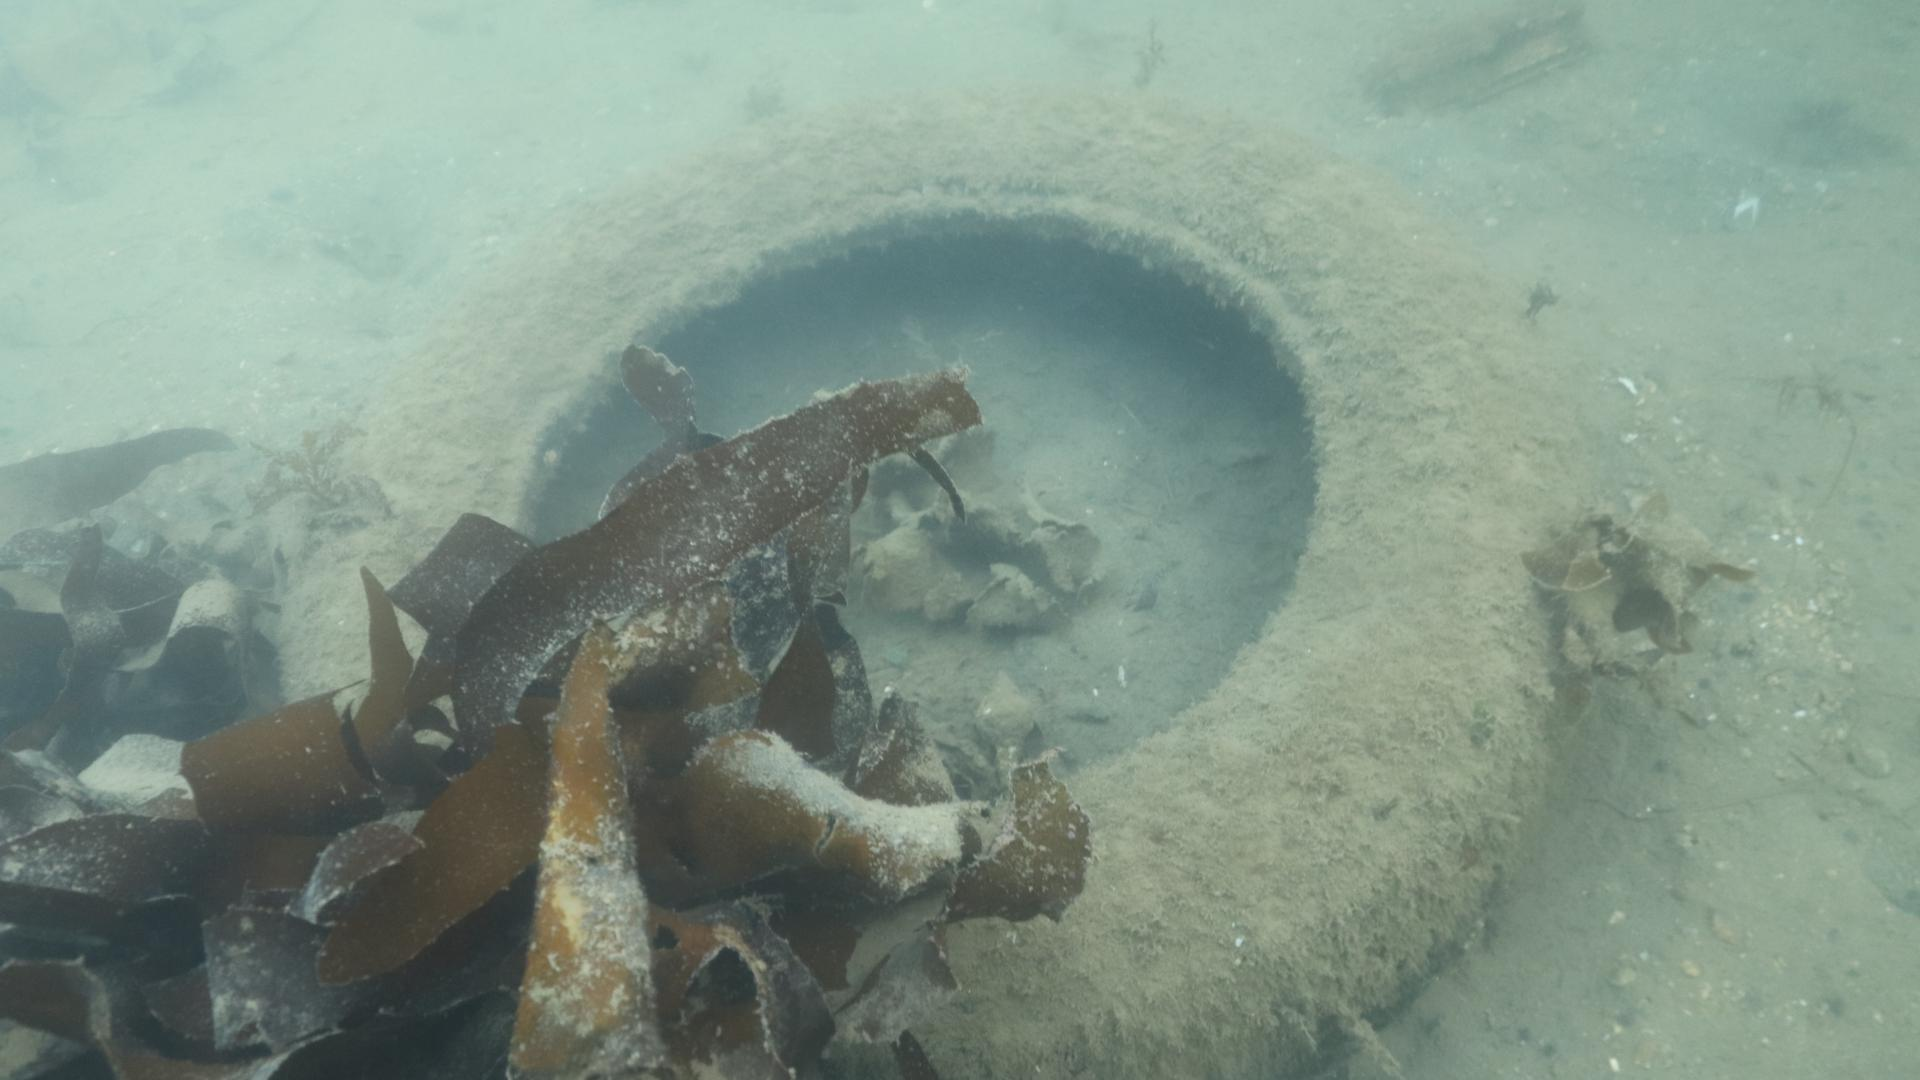tire: (273, 88, 1618, 1080)
